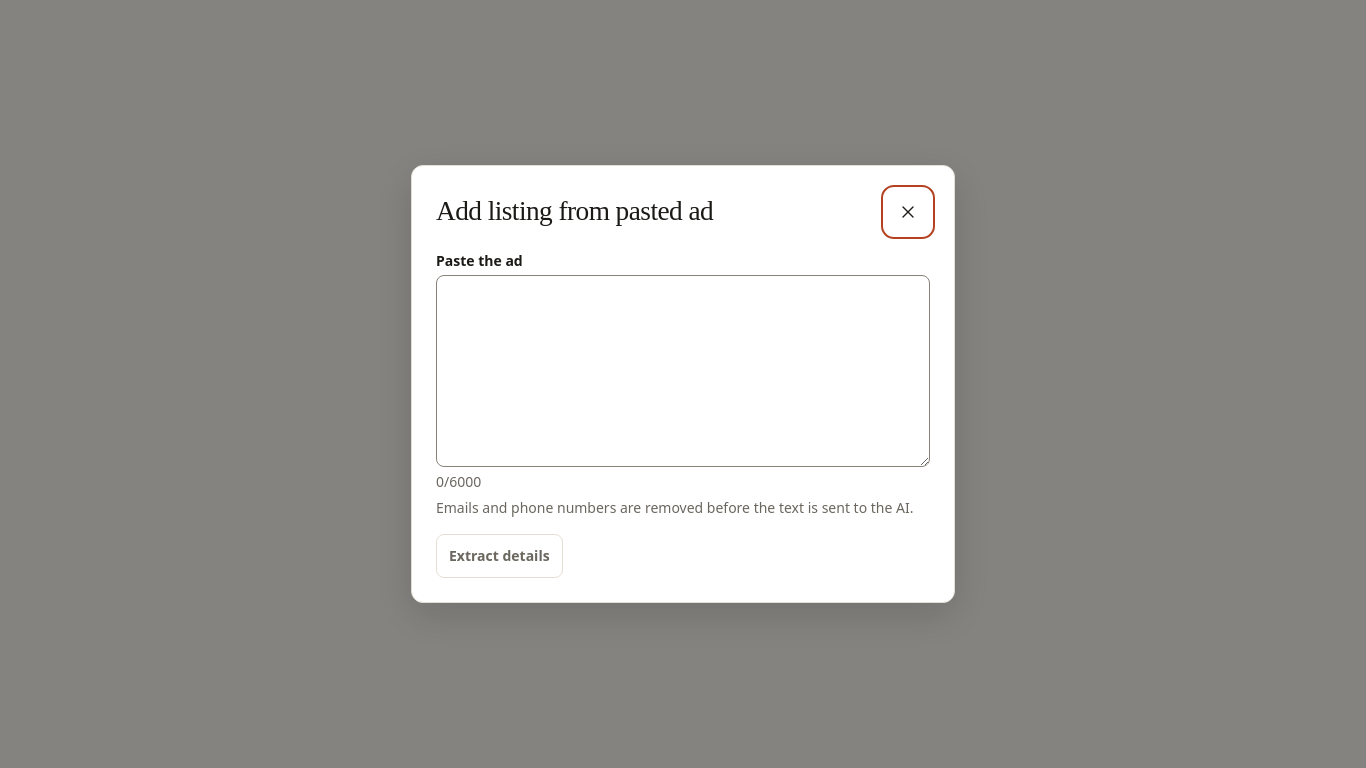
shows a parse error and keeps the pasted text available for retry
Type "Möbliertes Zimmer in Jena, 340 Euro warm." into the text box labelled "Paste the ad" at x=683, y=371, box x1=436 y1=275 x2=930 y2=467
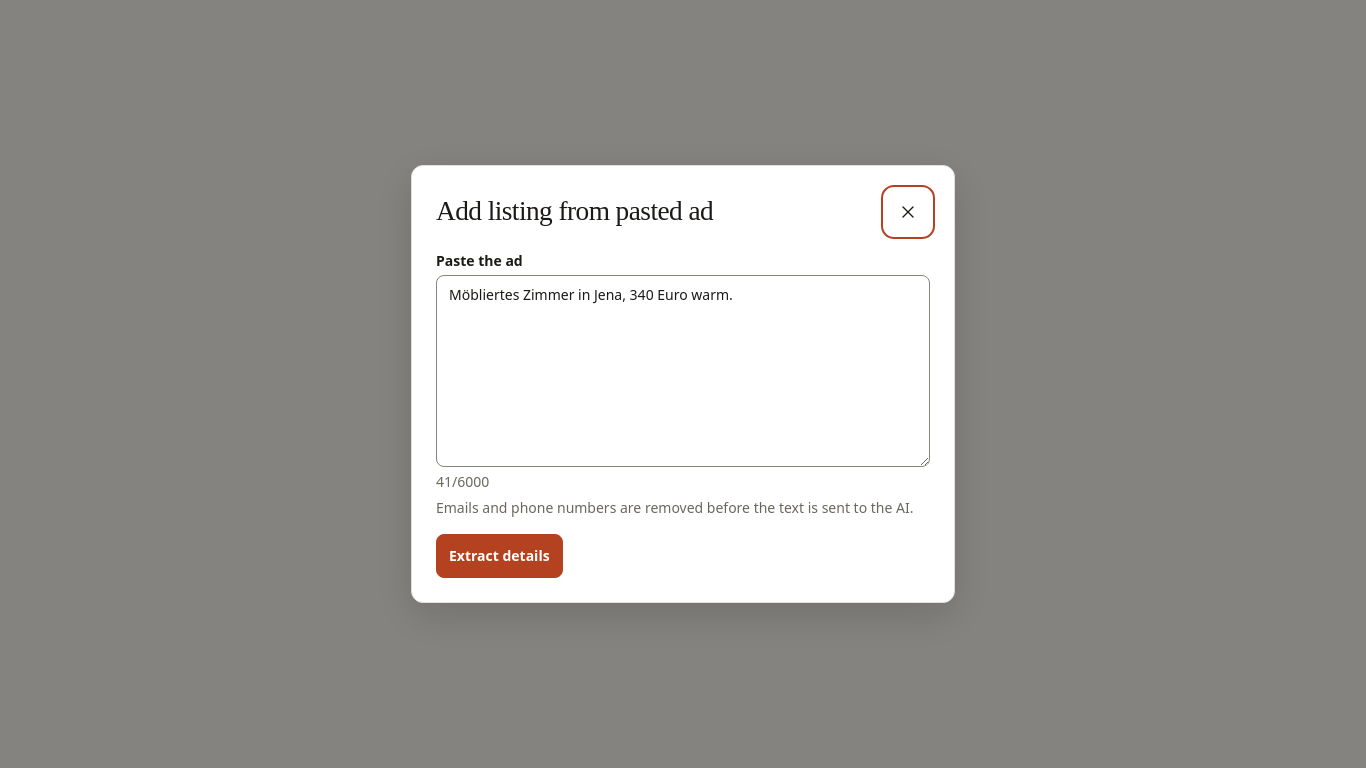
Click the button "Extract details" at x=499, y=556, box x1=436 y1=534 x2=563 y2=578
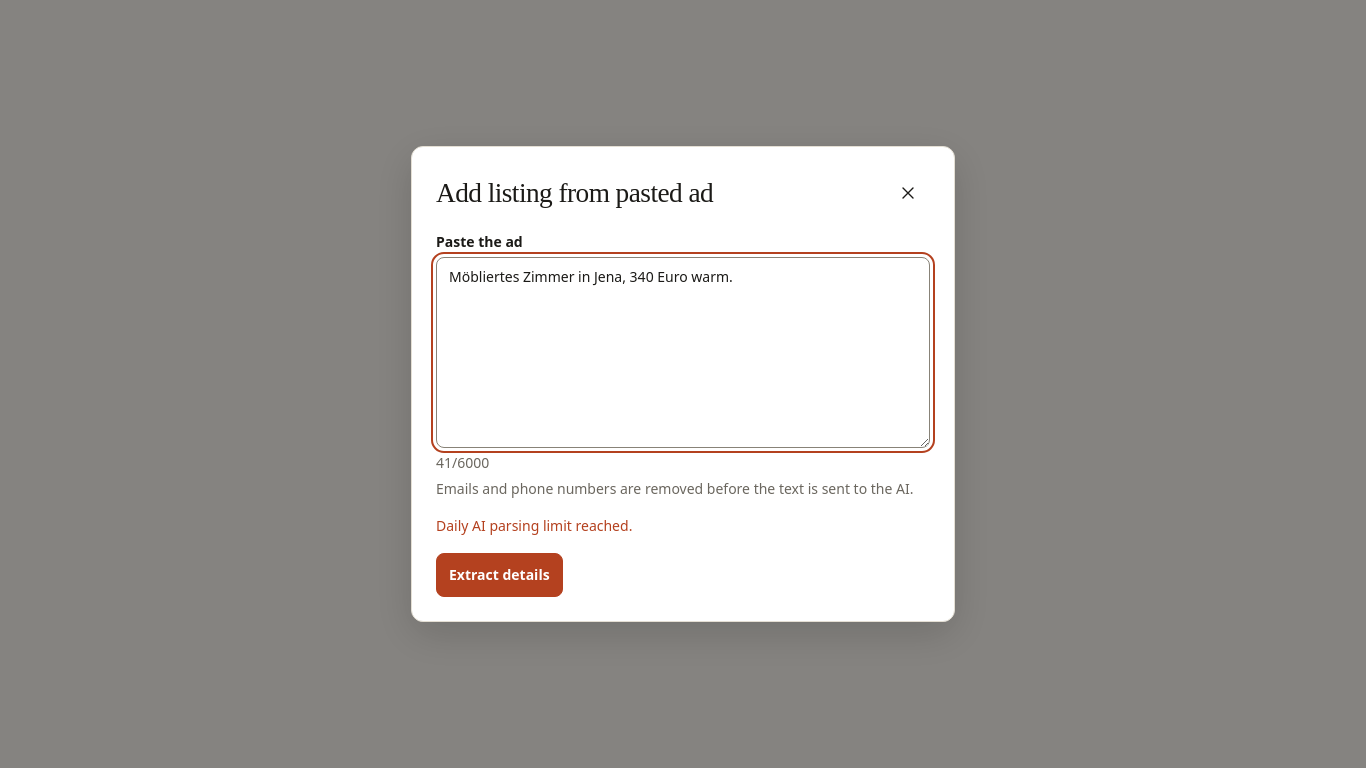
Expected: the message reads "Daily AI parsing limit reached.", x1=436 y1=516 x2=632 y2=535
